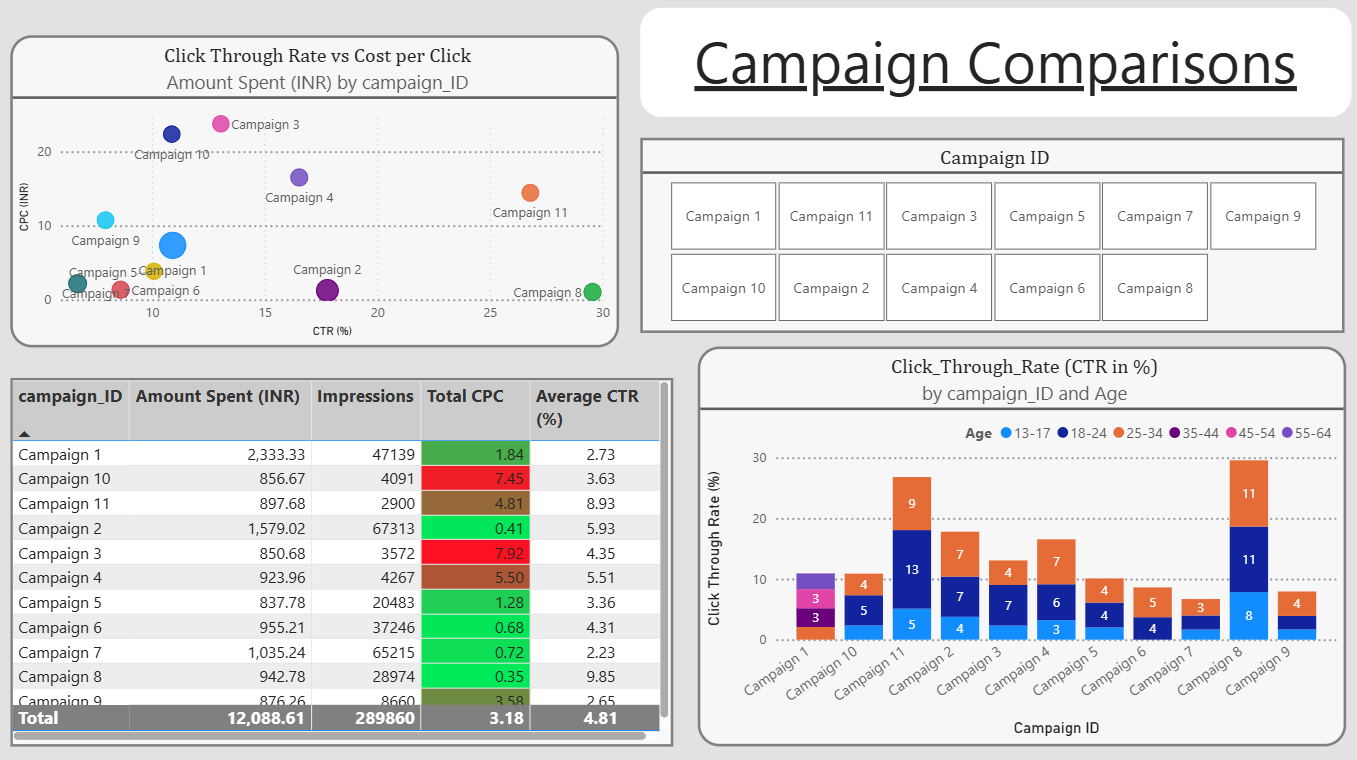

The page's visual inventory and layout, read from the dashboard file:
{"tool":"powerbi","page":{"name":"Campaign Comparisons","canvas":[1280,720],"ordinal":1},"visuals":[{"type":"columnChart","title":"Click_Through_Rate (CTR in %)","fields":{"Category":["Marketing Team Data - Sheet1.campaign_ID"],"Y":["Avg(Marketing Team Data - Sheet1.Click_Through_Rate (CTR in %))"],"Series":["Marketing Team Data - Sheet1.Age"]},"box":[655,328.3,603.3,371.7],"z":0},{"type":"scatterChart","title":"Click Through Rate vs Cost per Click","fields":{"X":["Sum(Marketing Team Data - Sheet1.Click_Through_Rate (CTR in %))"],"Y":["Sum(Marketing Team Data - Sheet1.Cost_Per_Click (CPC))"],"Size":["Sum(Marketing Team Data - Sheet1.Amount_Spent_in_INR)"],"Series":["Marketing Team Data - Sheet1.campaign_ID"]},"box":[15,38.3,566.7,290],"z":1000},{"type":"pivotTable","fields":{"Rows":["Marketing Team Data - Sheet1.campaign_ID"],"Values":["Sum(Marketing Team Data - Sheet1.Amount_Spent_in_INR)","Sum(Marketing Team Data - Sheet1.Impressions)","Avg(Marketing Team Data - Sheet1.Cost_Per_Click (CPC))","Avg(Marketing Team Data - Sheet1.Click_Through_Rate (CTR in %))"]},"box":[15,356.7,616.7,343.3],"z":2000},{"type":"textbox","box":[601.7,13.3,661.7,101.7],"z":3000},{"type":"slicer","title":"Campaign ID","fields":{"Values":["Marketing Team Data - Sheet1.campaign_ID"]},"box":[601.7,133.3,655,181.7],"z":4000}]}

Visuals, with their boxes in screenshot pixels (x1, y1, x2, y2), scaled from the page's 1280x720 canvas onto the 1357x760 screenshot:
"Click_Through_Rate (CTR in %)" columnChart: detection(694, 347, 1334, 739)
"Click Through Rate vs Cost per Click" scatterChart: detection(16, 40, 617, 347)
pivotTable - Marketing Team Data - Sheet1.campaign_ID x Sum(Marketing Team Data - Sheet1.Amount_Spent_in_INR): detection(16, 377, 670, 739)
textbox: detection(638, 14, 1339, 121)
"Campaign ID" slicer: detection(638, 141, 1332, 332)
